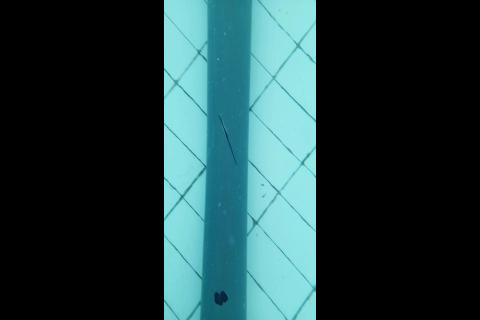kebocoran: (212, 289, 229, 306)
keretakan: (217, 113, 237, 167)
